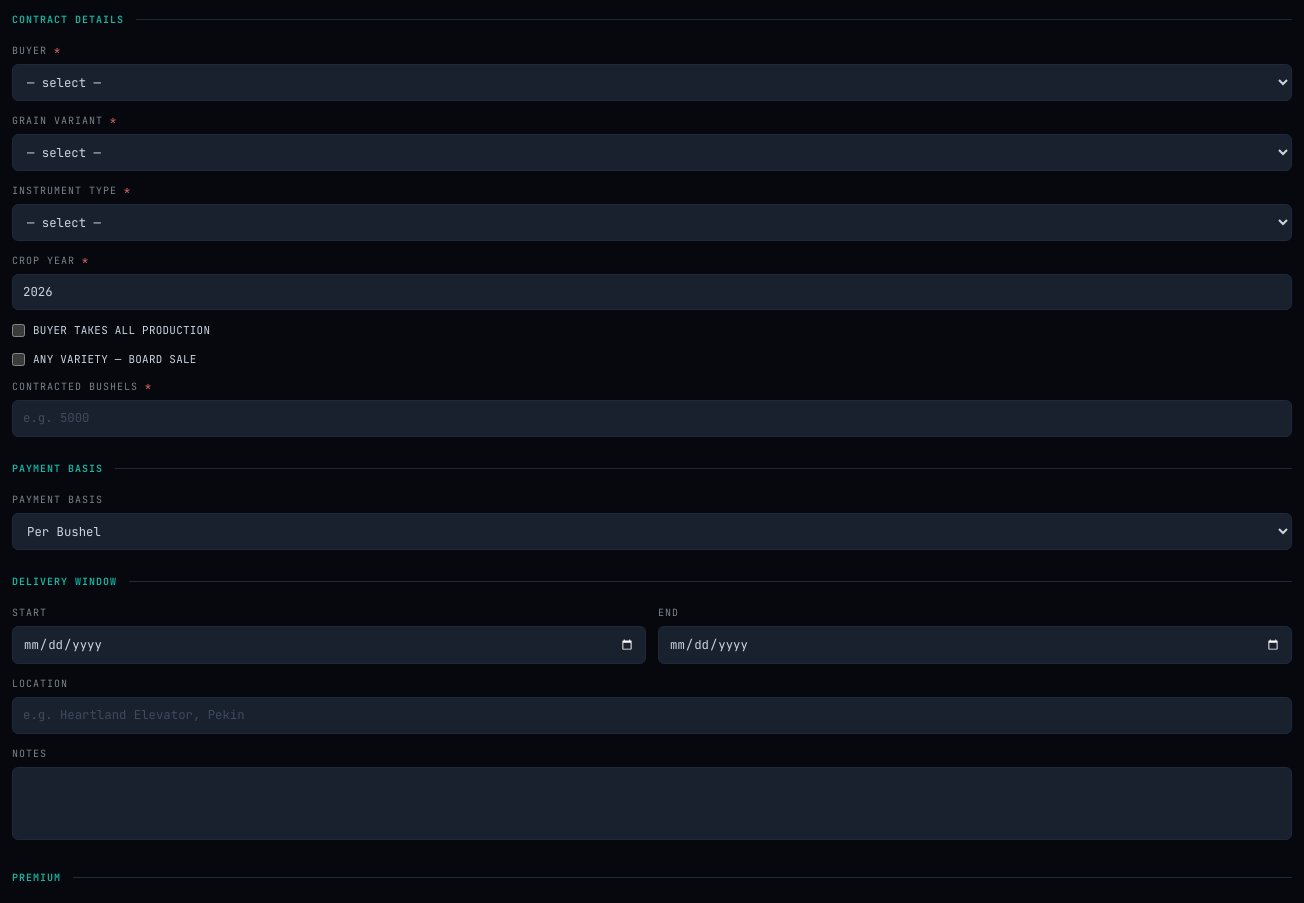
it: ContractForm › shows Canning Crop Details section when paymentBasis is PER_TON
Select "Per Ton" in the dropdown labelled "Payment Basis" at (652,531), box [12, 513, 1292, 550]
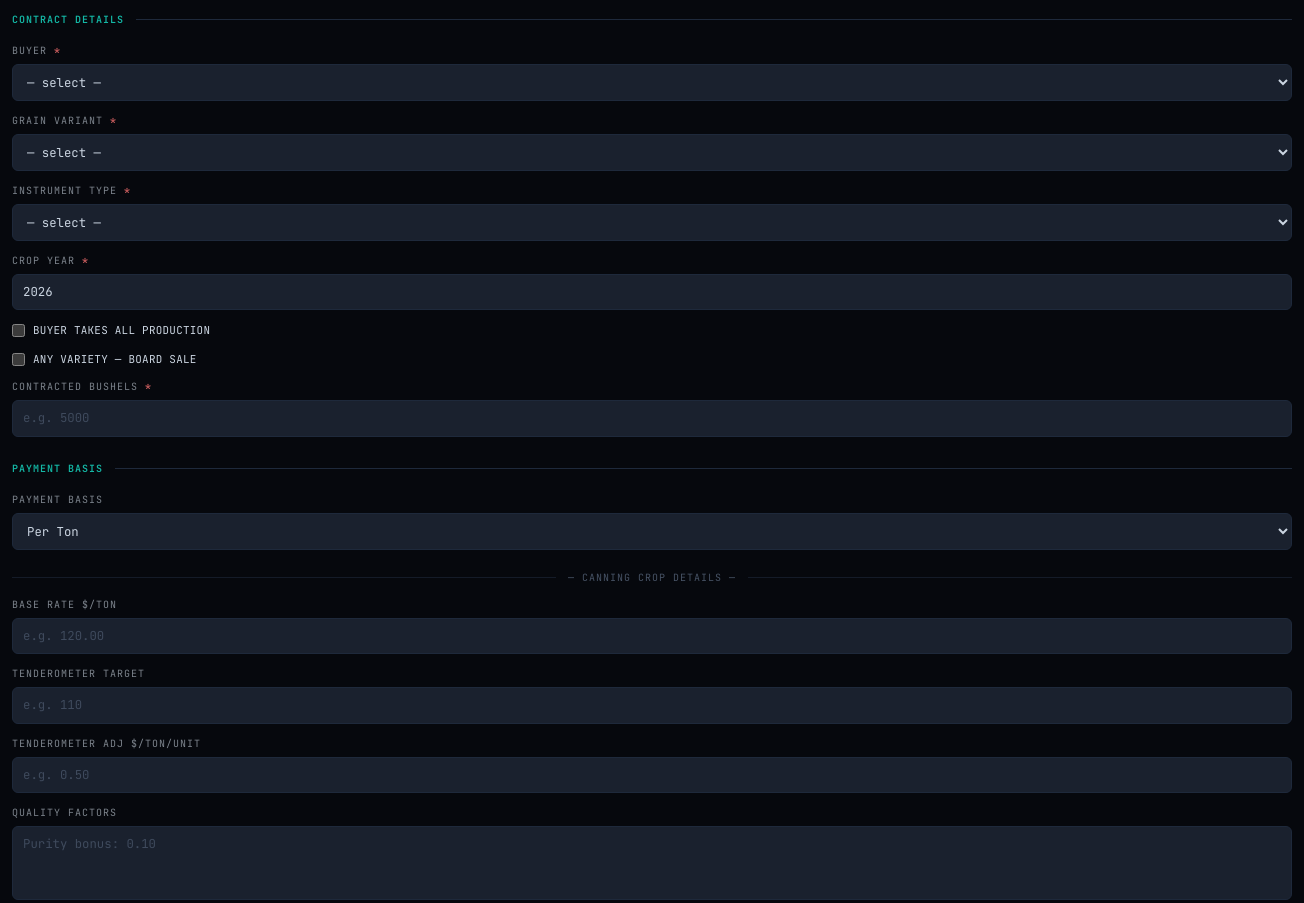
Expected: the text "— Canning Crop Details —" is shown, [564, 570, 740, 585]
Expected: the number field named "base rate per ton" is shown, [12, 618, 1292, 654]
